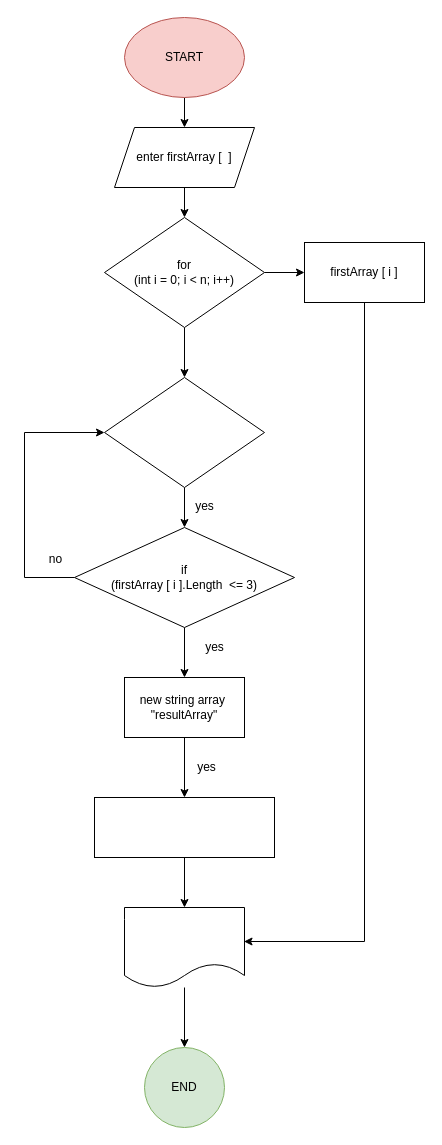
Image size: 442x1145. Some labels were removed from this diagram. Here are the shapes that lost their labels. From the top down, the centre of each, then its label:
At point 184,432: "for (int j = 0; j< n; j++)".
At point 184,827: "resultArray [ i ] = firstArray [ i ]".
At point 184,947: "print firstArray print resultArray".
